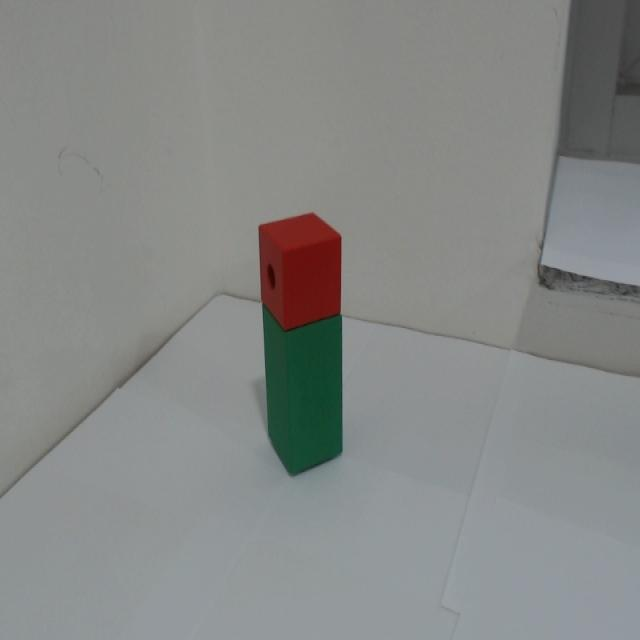cube: (253, 183, 372, 342)
